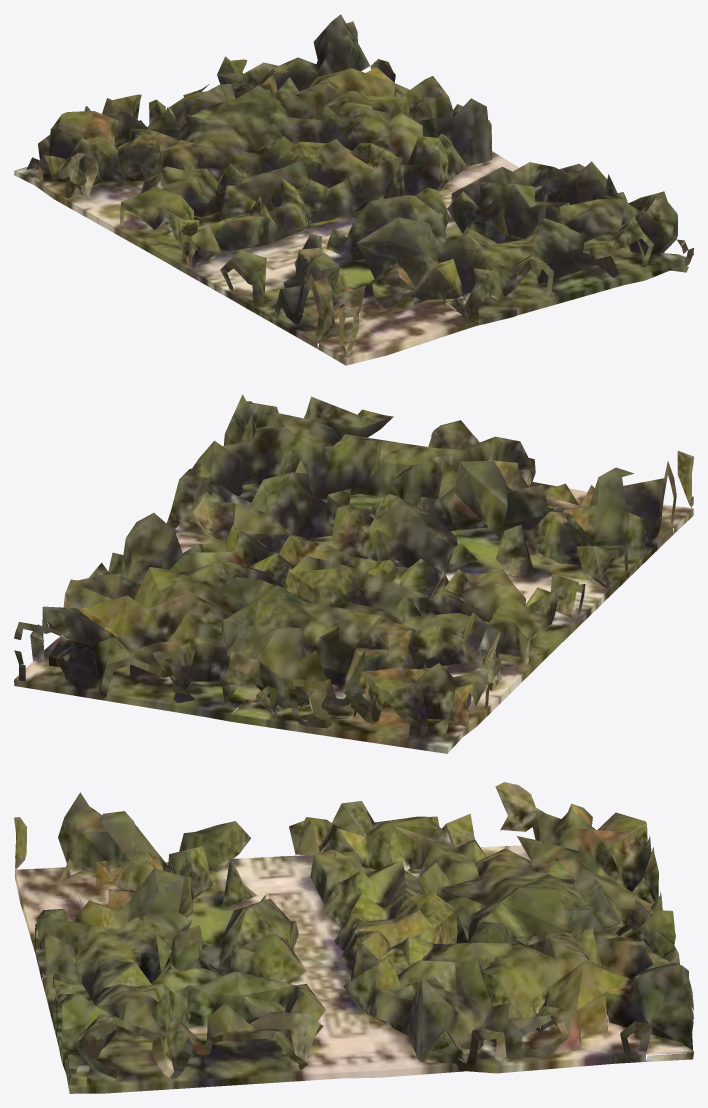
3 views of the same model, one above another, from view 1: azimuth 30°, elevation 25°; view 2: azimuth 150°, elevation 25°; view 3: azimuth 270°, elevation 25° (orthographic). The views are drawn at different scales.
Parts seen in each view (by area): view 1: Mesh_0; view 2: Mesh_0; view 3: Mesh_0.
Part boxes in pixels (x1=…): Mesh_0: x1=14, y1=14, x2=693, y2=365; Mesh_0: x1=14, y1=394, x2=693, y2=753; Mesh_0: x1=14, y1=782, x2=693, y2=1093.
Bounding box in the file's own units: 135 × 26.3 × 165.
2 materials, 2 textured.
